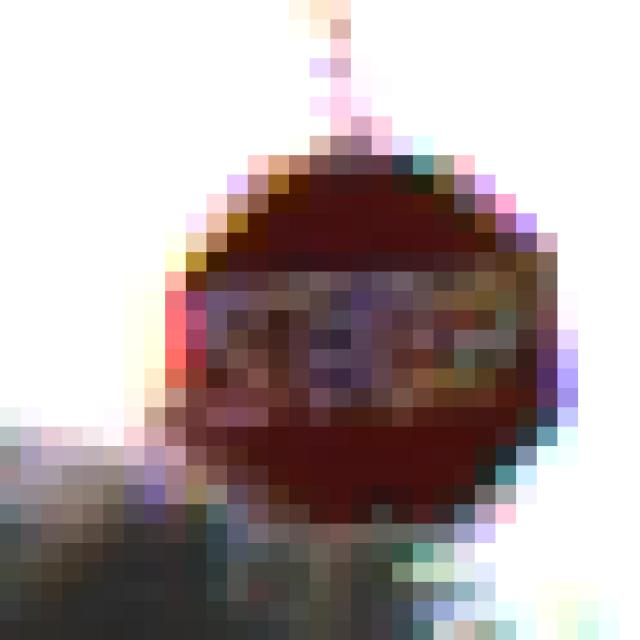STOP: (125, 98, 538, 544)
